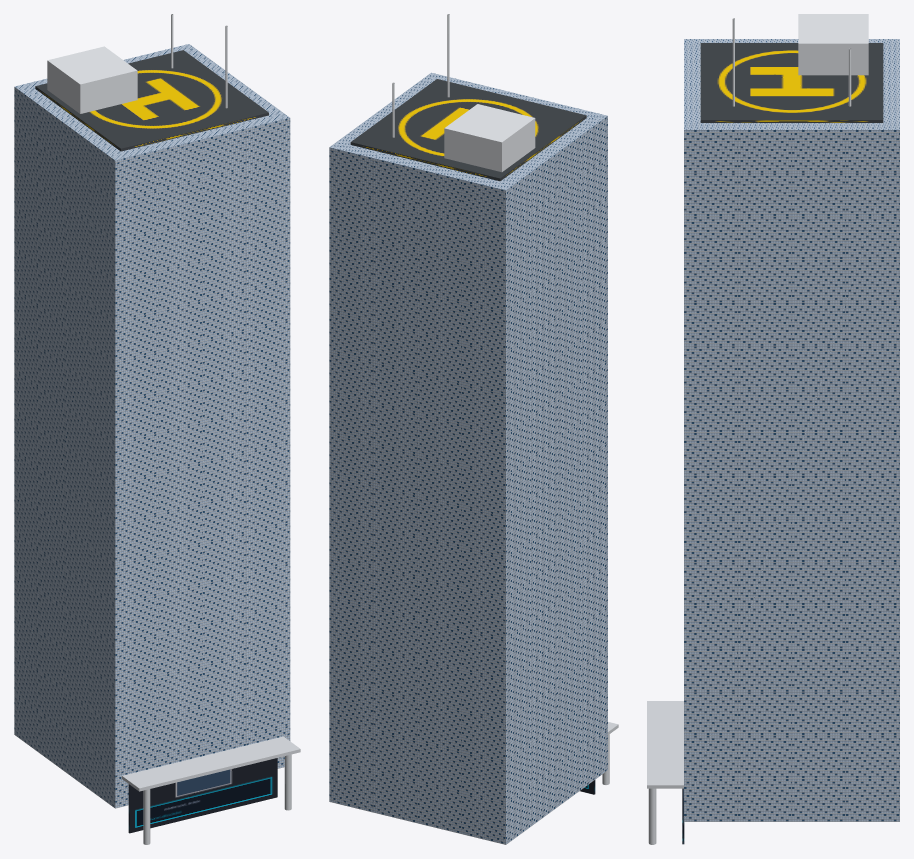
The model's file is mumbai_glass_skyscraper.glb.
The picture shows the model from 3 angles, left to right: view 1: azimuth 30°, elevation 25°; view 2: azimuth 150°, elevation 25°; view 3: azimuth 270°, elevation 25°; orthographic projection. The views are drawn at different scales.
Visible parts, largest first — view 1: Tower_Shaft, Tower_Helipad, Tower_Lobby_Entrance, Tower_Rooftop_Equip, Tower_Entrance_Podium; view 2: Tower_Shaft, Tower_Helipad, Tower_Rooftop_Equip; view 3: Tower_Shaft, Tower_Helipad, Tower_Rooftop_Equip, Tower_Entrance_Podium.
Part boxes in pixels (x1=…): Tower_Shaft: x1=14, y1=44, x2=290, y2=808; Tower_Helipad: x1=35, y1=50, x2=268, y2=151; Tower_Lobby_Entrance: x1=128, y1=758, x2=277, y2=833; Tower_Rooftop_Equip: x1=47, y1=14, x2=227, y2=113; Tower_Entrance_Podium: x1=122, y1=736, x2=300, y2=844; Tower_Shaft: x1=329, y1=72, x2=607, y2=844; Tower_Helipad: x1=350, y1=79, x2=586, y2=181; Tower_Rooftop_Equip: x1=392, y1=14, x2=535, y2=172; Tower_Shaft: x1=684, y1=39, x2=899, y2=821; Tower_Helipad: x1=700, y1=43, x2=883, y2=122; Tower_Rooftop_Equip: x1=732, y1=14, x2=868, y2=106; Tower_Entrance_Podium: x1=647, y1=701, x2=683, y2=844.
Size of the model in its own units: 26 by 108 by 30.45.
5 materials, 3 textured.
